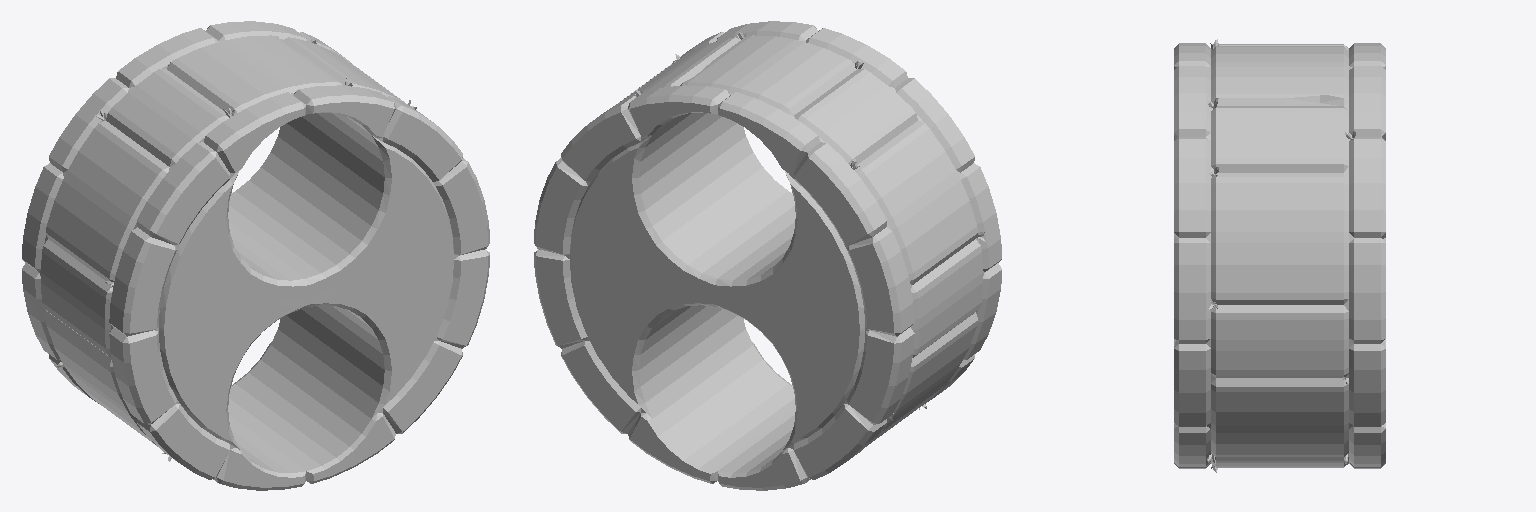
File: Clock D.obj
3 renders of one model, left to right at view 1: azimuth 30°, elevation 25°; view 2: azimuth 150°, elevation 25°; view 3: azimuth 270°, elevation 25°, orthographic.
Parts seen in each view (by area): view 1: polySurface5177__Stone05_AI, polySurface5177__Relief00_AI, polySurface5177__Stone02_AI; view 2: polySurface5177__Stone05_AI, polySurface5177__Relief00_AI, polySurface5177__Stone02_AI; view 3: polySurface5177__Relief00_AI, polySurface5177__Stone05_AI, polySurface5177__Stone02_AI.
Part boxes in pixels (x1,y1,x2,y2): polySurface5177__Stone05_AI: (22, 21, 489, 490); polySurface5177__Relief00_AI: (39, 35, 404, 446); polySurface5177__Stone02_AI: (22, 28, 489, 483); polySurface5177__Stone05_AI: (534, 21, 1001, 490); polySurface5177__Relief00_AI: (619, 35, 984, 446); polySurface5177__Stone02_AI: (534, 28, 1001, 483); polySurface5177__Relief00_AI: (1206, 44, 1353, 467); polySurface5177__Stone05_AI: (1174, 66, 1385, 466); polySurface5177__Stone02_AI: (1174, 43, 1385, 468).
Size of the model in its own units: 7.99 by 7.99 by 4.